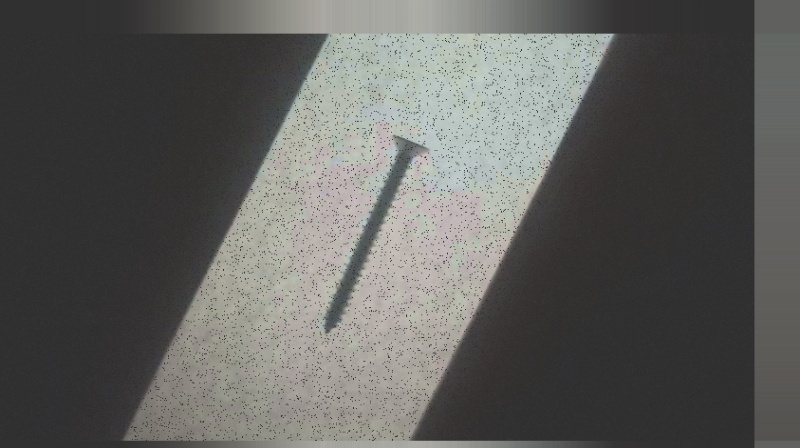S002: (320, 131, 434, 336)
